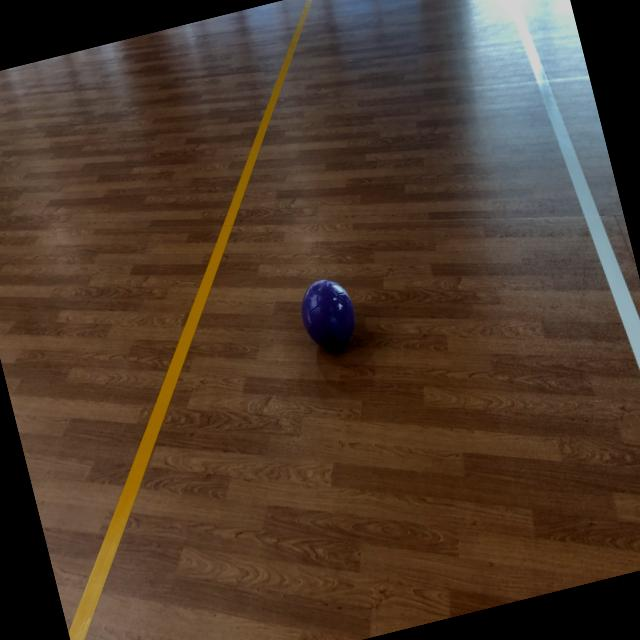purple_ball: (293, 272, 362, 358)
